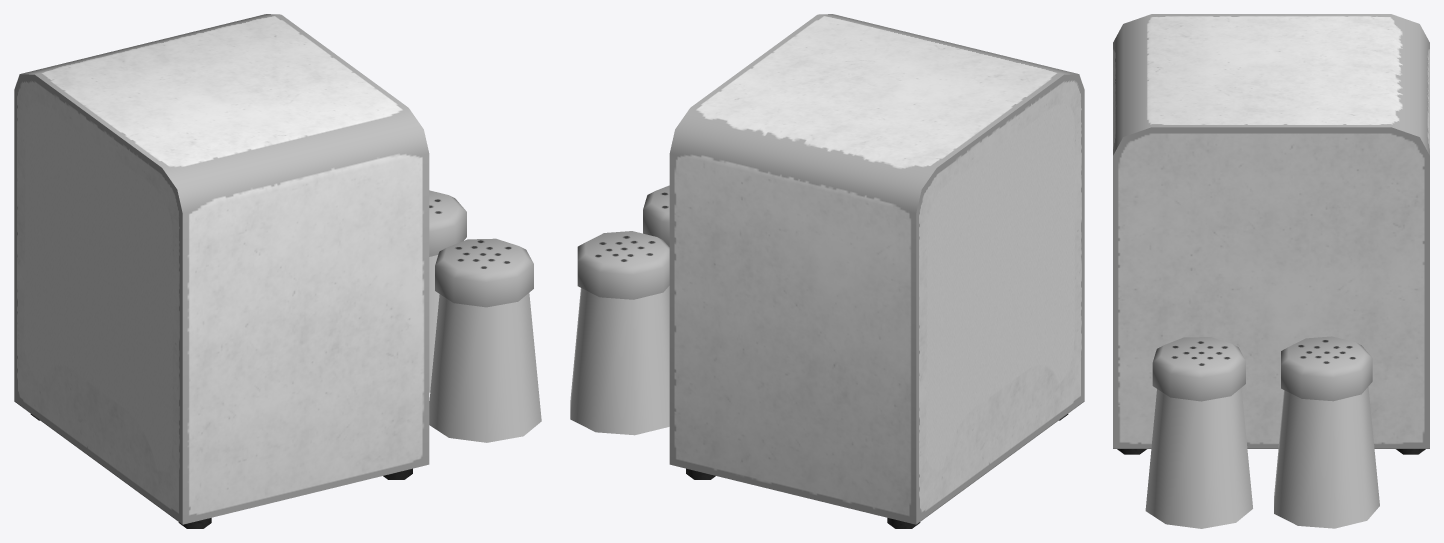
Rendered from Napkin Winchester B.fbx.
3 views of the same model, side by side, from view 1: azimuth 30°, elevation 25°; view 2: azimuth 150°, elevation 25°; view 3: azimuth 270°, elevation 25° (orthographic). The views are drawn at different scales.
Visible parts, largest first — view 1: Dispensir W1; view 2: Dispensir W1; view 3: Dispensir W1.
Boxes of the visible parts, bbox=[...] form: Dispensir W1: bbox=[14, 14, 541, 528]; Dispensir W1: bbox=[570, 14, 1084, 528]; Dispensir W1: bbox=[1113, 14, 1429, 528].
Size of the model in its own units: 12.11 by 10.3 by 8.89.
